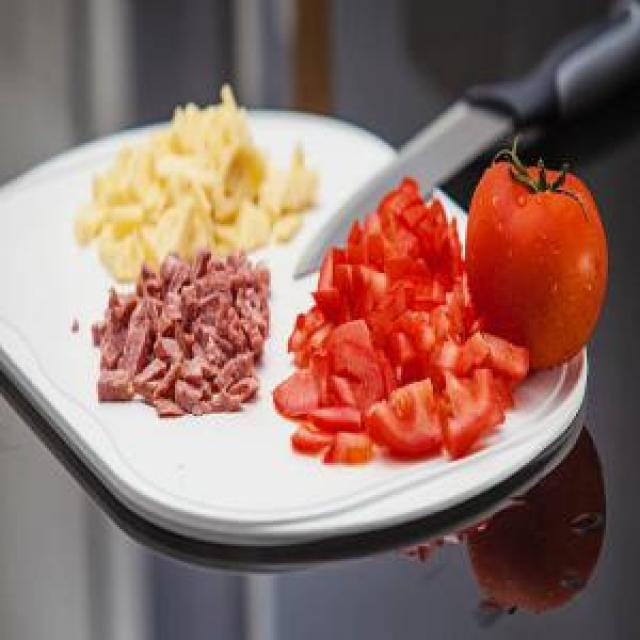knife: (292, 0, 638, 284)
